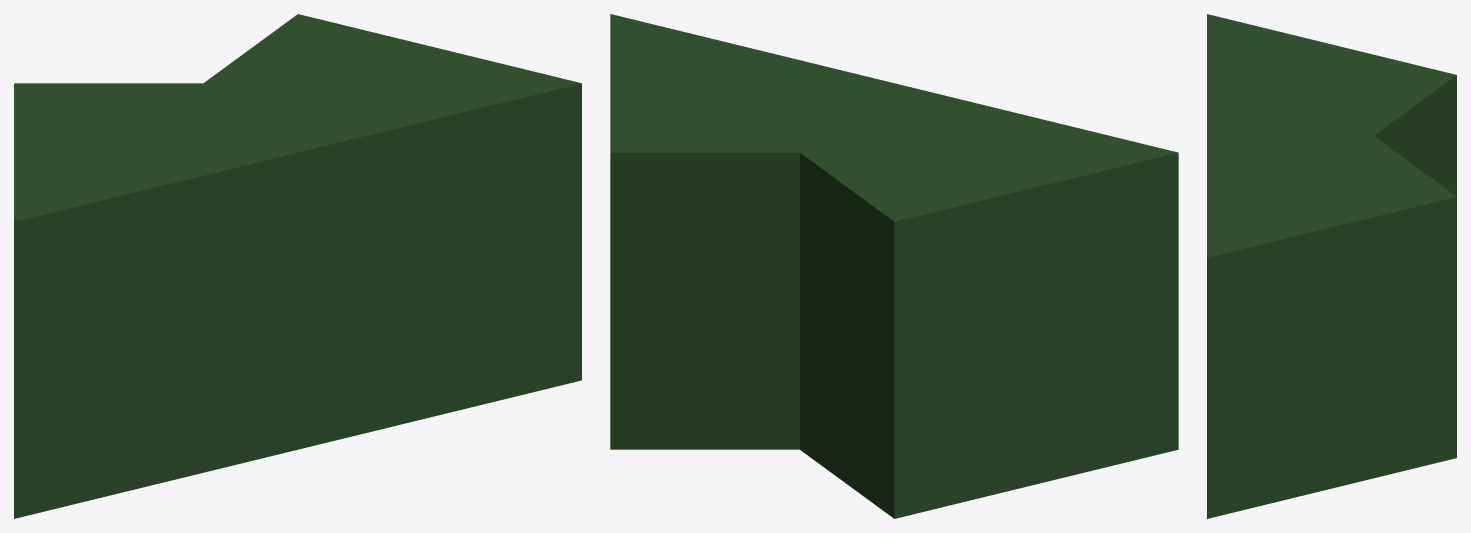
Rendered from face_forest_air-forest_forest-air.glb.
3 renders of one model, left to right at view 1: azimuth 30°, elevation 25°; view 2: azimuth 150°, elevation 25°; view 3: azimuth 270°, elevation 25°, orthographic. The views are drawn at different scales.
Parts seen in each view (by area): view 1: face_forest_air-forest_forest-air; view 2: face_forest_air-forest_forest-air; view 3: face_forest_air-forest_forest-air.
Part boxes in pixels (left/top/right/bottom): face_forest_air-forest_forest-air: left=14, top=14, right=581, bottom=518; face_forest_air-forest_forest-air: left=610, top=14, right=1178, bottom=518; face_forest_air-forest_forest-air: left=1207, top=14, right=1456, bottom=518.
Size of the model in its own units: 1 by 0.5 by 0.4333.
